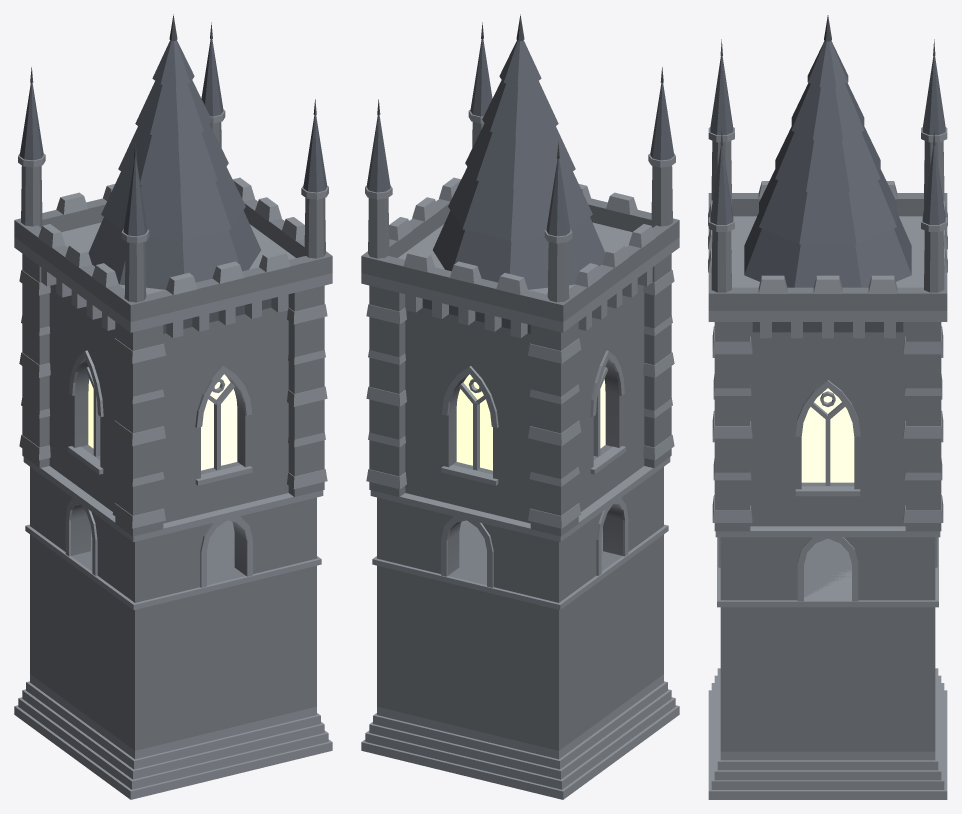
File: Tower_Gothic_CornerSpire.fbx
3 renders of one model, left to right at view 1: azimuth 30°, elevation 25°; view 2: azimuth 150°, elevation 25°; view 3: azimuth 270°, elevation 25°, orthographic. The views are drawn at different scales.
Visible parts, largest first — view 1: Tower_Gothic_CornerSpire_Hull_Stone, Tower_Gothic_CornerSpire_Hull_CapStone, Tower_Spire_Part_SpireRoof, Tower_Gothic_CornerSpire_Detail_CapStone, Tower_Spire_Part_Stone, Tower_Gothic_CornerSpire_Detail_Glow, Tower_Spire_Part_CapStone; view 2: Tower_Gothic_CornerSpire_Hull_Stone, Tower_Gothic_CornerSpire_Hull_CapStone, Tower_Spire_Part_SpireRoof, Tower_Gothic_CornerSpire_Detail_CapStone, Tower_Spire_Part_Stone, Tower_Gothic_CornerSpire_Detail_Glow, Tower_Spire_Part_CapStone; view 3: Tower_Gothic_CornerSpire_Hull_Stone, Tower_Spire_Part_SpireRoof, Tower_Gothic_CornerSpire_Hull_CapStone, Tower_Gothic_CornerSpire_Detail_CapStone, Tower_Spire_Part_Stone, Tower_Gothic_CornerSpire_Detail_Glow, Tower_Gothic_CornerSpire_Detail_Mortar, Tower_Spire_Part_CapStone.
Boxes of the visible parts, x1,y1,x2,y2 form: Tower_Gothic_CornerSpire_Hull_Stone: (14,198,332,750); Tower_Gothic_CornerSpire_Hull_CapStone: (14,177,332,799); Tower_Spire_Part_SpireRoof: (19,39,327,289); Tower_Gothic_CornerSpire_Detail_CapStone: (19,267,327,587); Tower_Spire_Part_Stone: (21,122,325,302); Tower_Gothic_CornerSpire_Detail_Glow: (88,374,237,470); Tower_Spire_Part_CapStone: (18,109,328,243); Tower_Gothic_CornerSpire_Hull_Stone: (361,198,679,750); Tower_Gothic_CornerSpire_Hull_CapStone: (361,177,679,799); Tower_Spire_Part_SpireRoof: (366,39,674,289); Tower_Gothic_CornerSpire_Detail_CapStone: (366,267,674,587); Tower_Spire_Part_Stone: (368,122,672,302); Tower_Gothic_CornerSpire_Detail_Glow: (456,374,605,470); Tower_Spire_Part_CapStone: (365,109,675,243); Tower_Gothic_CornerSpire_Hull_Stone: (708,193,947,751); Tower_Spire_Part_SpireRoof: (710,40,945,287); Tower_Gothic_CornerSpire_Hull_CapStone: (708,181,947,799); Tower_Gothic_CornerSpire_Detail_CapStone: (712,322,943,601); Tower_Spire_Part_Stone: (711,141,944,292); Tower_Gothic_CornerSpire_Detail_Glow: (801,388,854,482); Tower_Gothic_CornerSpire_Detail_Mortar: (752,322,903,332); Tower_Spire_Part_CapStone: (708,127,947,231).
Size of the model in its own units: 20.1 by 68 by 20.1.
